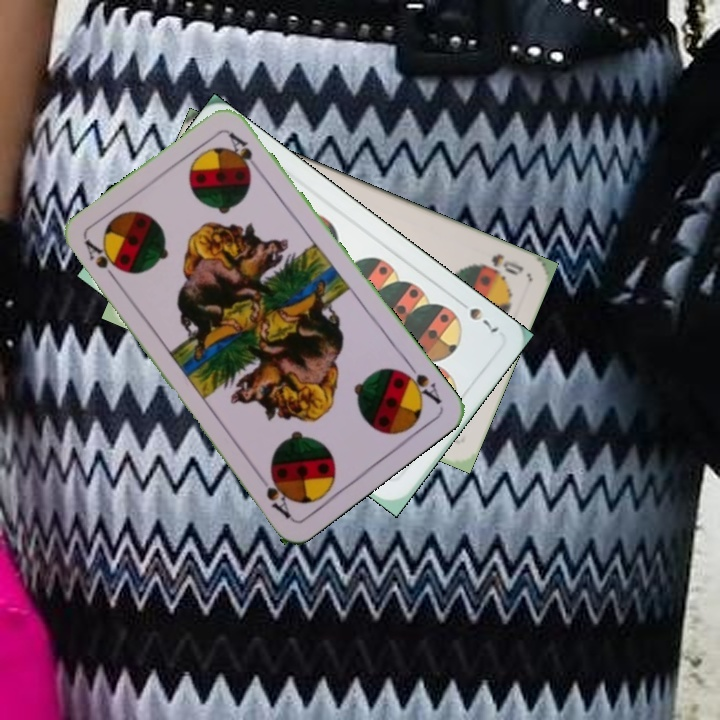S7: (452, 295, 501, 337)
SA: (395, 357, 444, 408), (81, 236, 123, 288)
SO: (476, 249, 527, 278)
